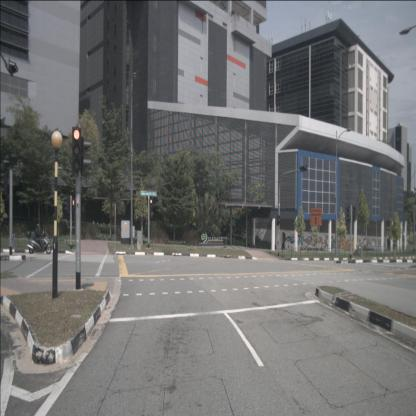vehicle-motorcycle: (27, 224, 52, 255)
